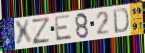2: (96, 11, 110, 37)
8: (75, 12, 90, 40)
D: (112, 7, 130, 35)
E: (54, 13, 73, 42)
X: (13, 18, 34, 48)
Z: (31, 16, 51, 46)
